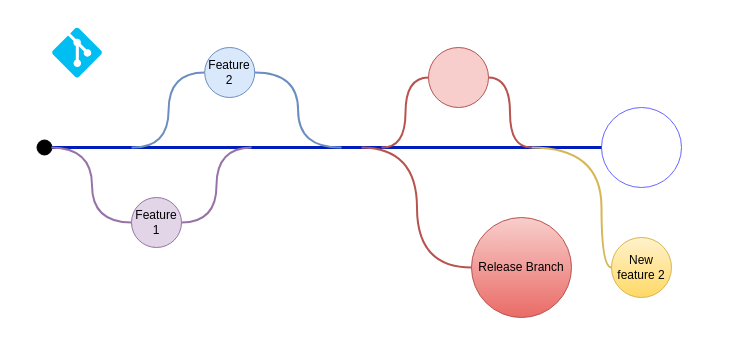
This 739x344 diagram has some shape labels left out. The shapes that lost their labels are listed below. From the top down, each one's centre as x and y in pixels, then its label:
At pixel 458 77: "New feature 1".
At pixel 641 147: "Main".
